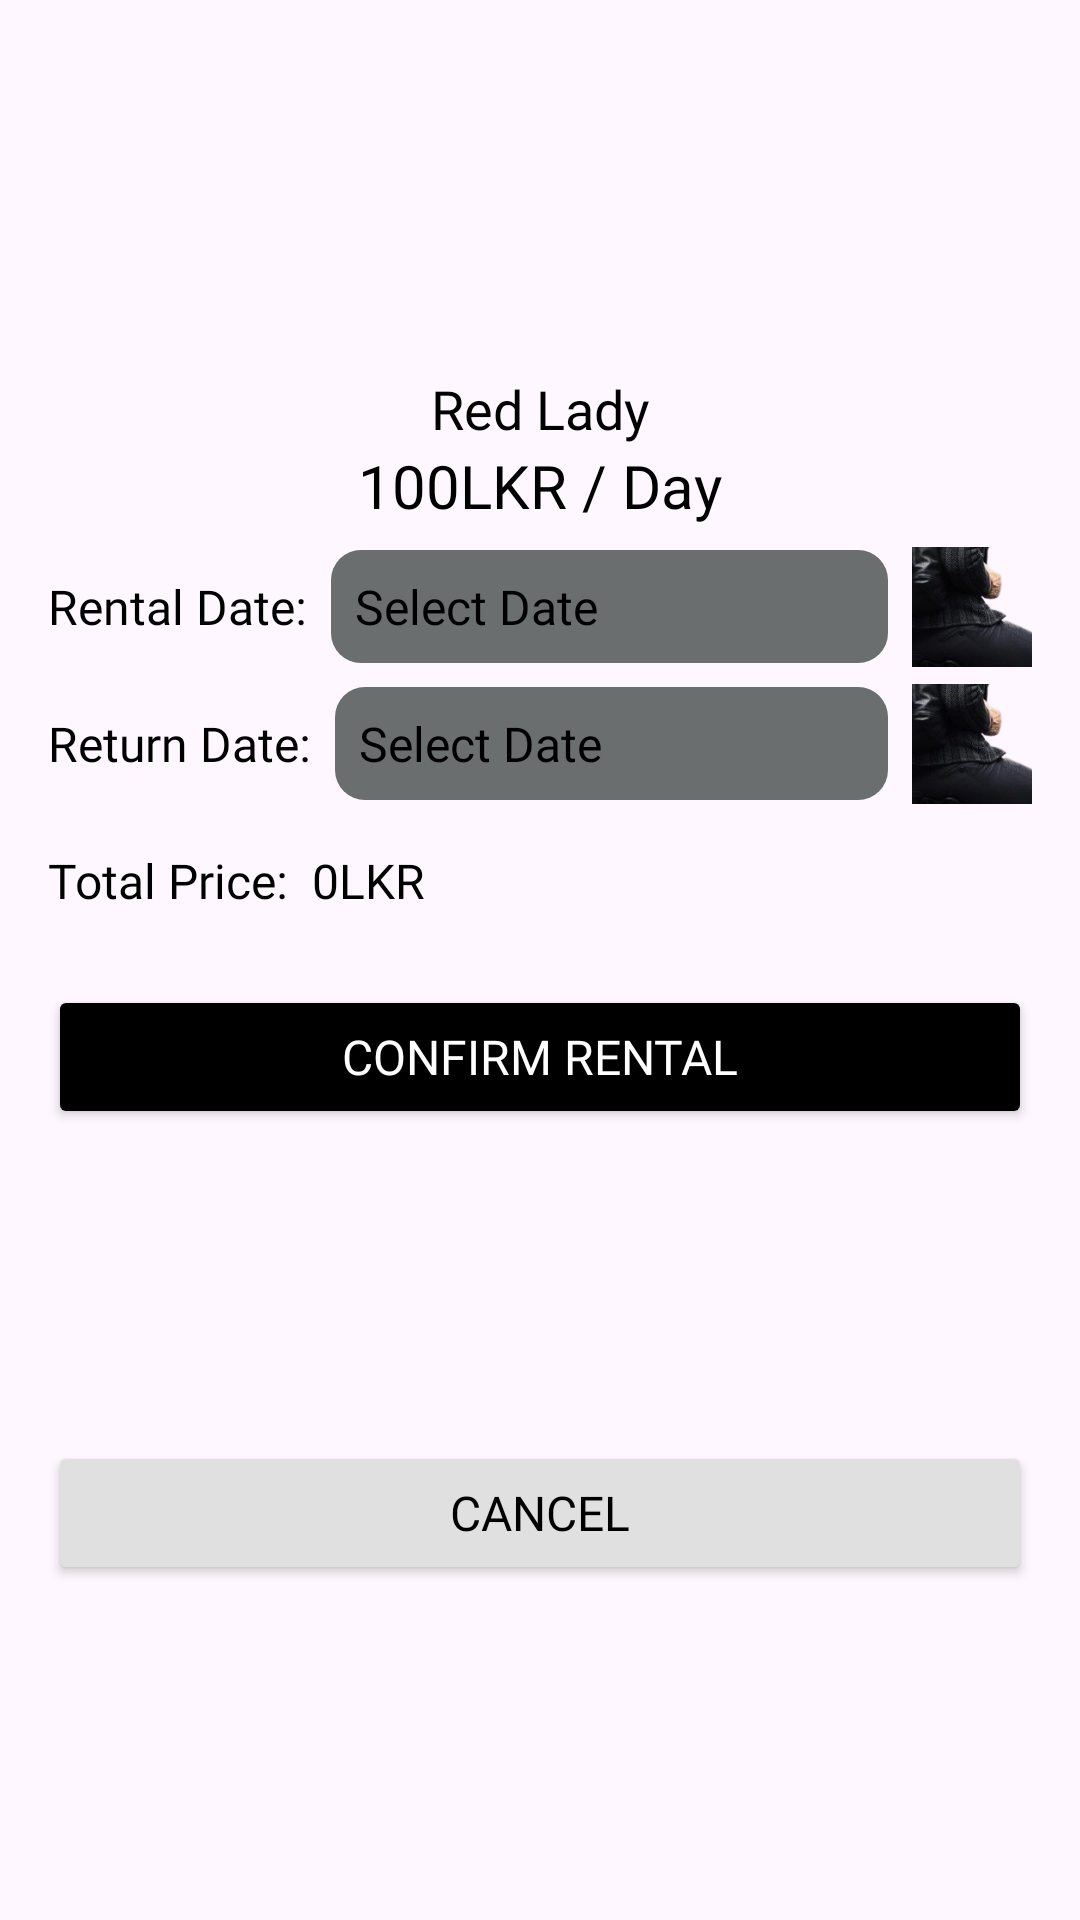

Icon bounding boxes for this 1080px x 1920px phone screenshot, format (x1, y1, x2, y2):
man: (912, 547, 1032, 667), (912, 684, 1032, 804)
